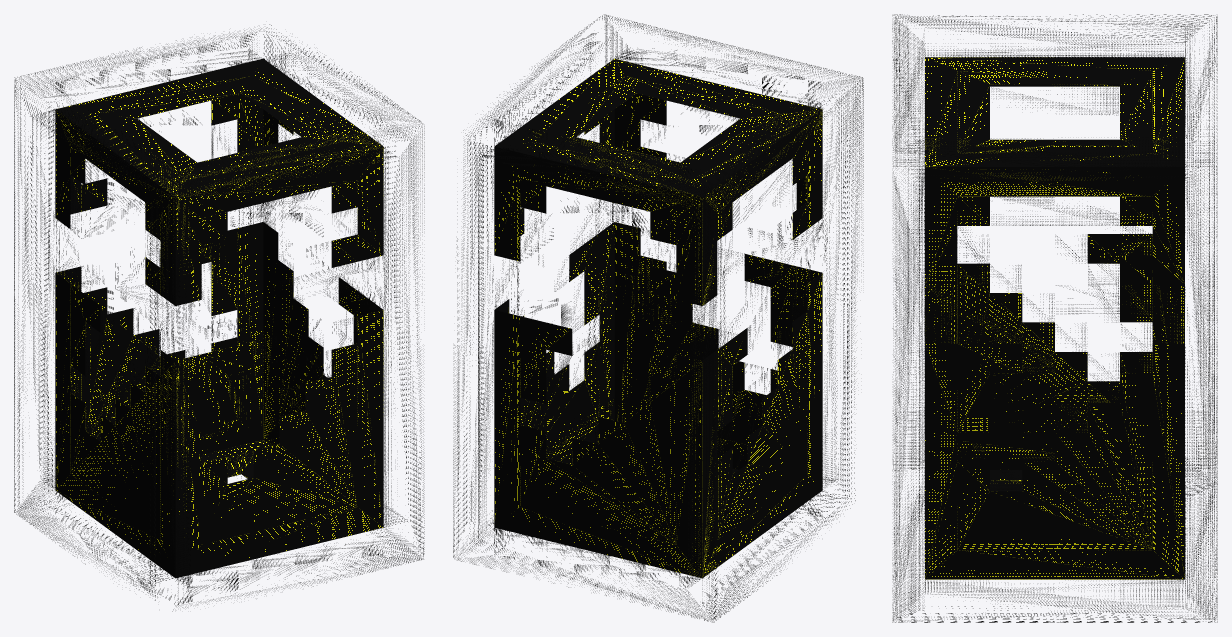
The model's file is Energy.obj.
3 views of the same model, side by side, from view 1: azimuth 30°, elevation 25°; view 2: azimuth 150°, elevation 25°; view 3: azimuth 270°, elevation 25° (orthographic). The views are drawn at different scales.
Bounding box in the file's own units: 1 × 1.6 × 1.
Materials: 1 (1 with a texture image).
